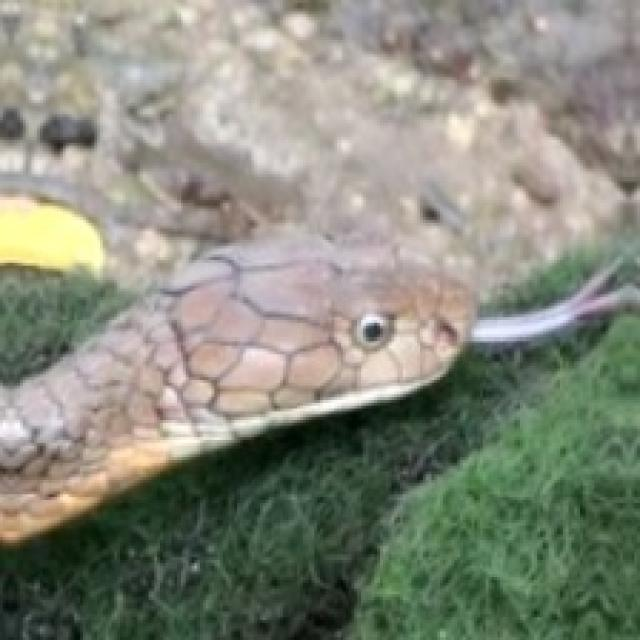king cobra: (0, 0, 637, 540)
